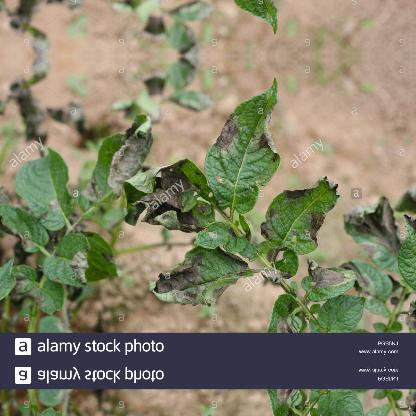Late-Blight: (83, 86, 207, 204), (227, 76, 289, 223), (118, 253, 246, 315), (344, 158, 404, 276), (43, 247, 126, 292), (227, 0, 289, 34), (298, 242, 338, 292)
